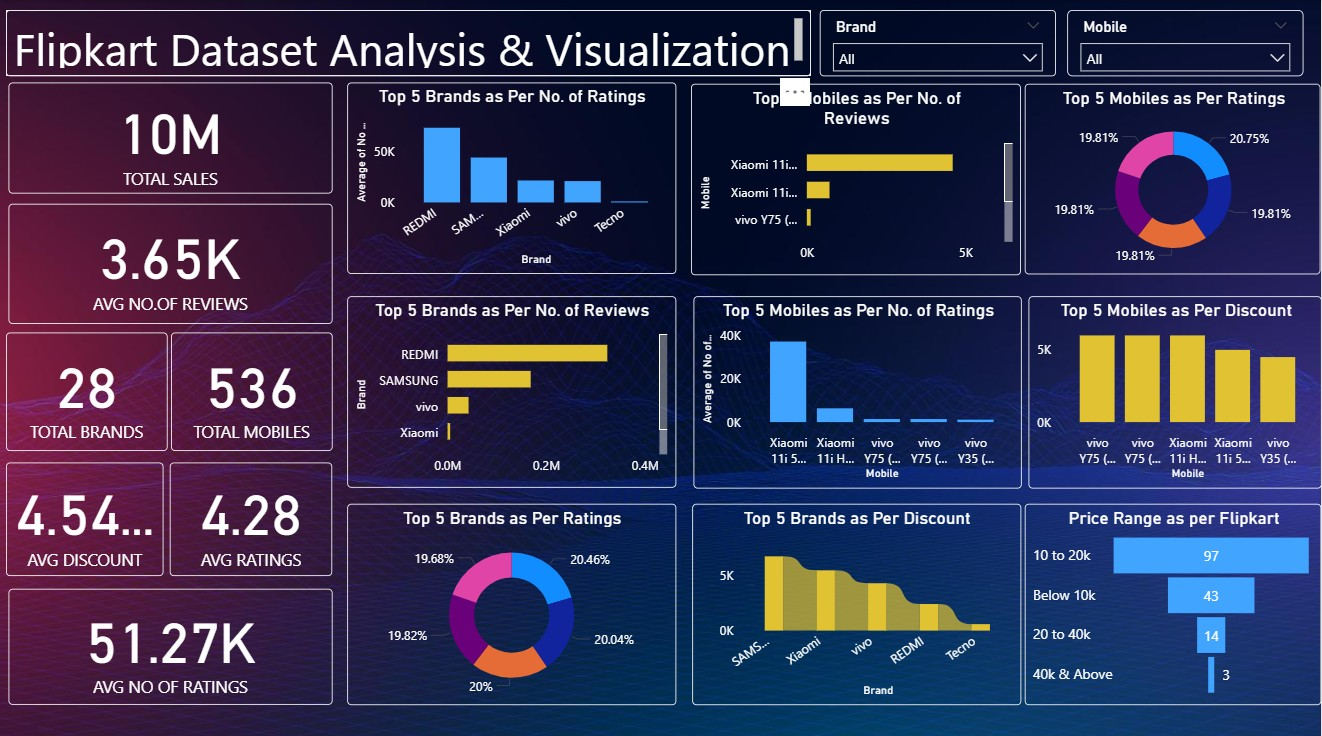

The dashboard page shown, as its layout file describes it:
{"tool":"powerbi","page":{"name":"Page 1","canvas":[1280,720],"ordinal":0},"visuals":[{"type":"textbox","box":[9.7,9.7,776.9,63.9],"z":0},{"type":"card","fields":{"Values":["Flipkart.Total Sales"]},"box":[12.1,79.6,312.5,107.4],"z":1000},{"type":"card","fields":{"Values":["Flipkart.Average No.of Reviews"]},"box":[12.1,196.6,312.5,115.8],"z":2000},{"type":"card","fields":{"Values":["Flipkart.Total Brands"]},"box":[9.7,320.9,155.6,114.6],"z":3000},{"type":"card","fields":{"Values":["Flipkart.Total Mobiles"]},"box":[168.9,320.9,155.6,114.6],"z":4000},{"type":"card","fields":{"Values":["Flipkart.Average No.of Ratings"]},"box":[12.1,568.2,312.5,112.2],"z":5000},{"type":"card","fields":{"Values":["Flipkart.Average of Ratings"]},"box":[167.7,446.4,156.8,109.8],"z":6000},{"type":"card","fields":{"Values":["Avg(Flipkart.Total Discount)"]},"box":[9.7,446.4,152,109.8],"z":7000},{"type":"columnChart","title":"Top 5 Brands as Per No. of Ratings","fields":{"Category":["Flipkart.Brand"],"Y":["Avg(Flipkart.No of Ratings)"]},"box":[339,79.6,317.3,184.6],"z":8000},{"type":"clusteredBarChart","title":"Top 5 Brands as Per No. of Reviews","fields":{"Category":["Flipkart.Brand"],"Y":["Sum(Flipkart.No of Reviews)"]},"box":[339,285.9,317.3,184.6],"z":9000},{"type":"donutChart","title":"Top 5 Brands as Per Ratings","fields":{"Category":["Flipkart.Brand"],"Y":["Avg(Flipkart.Ratings)"]},"box":[339,486.2,317.3,194.2],"z":10000},{"type":"ribbonChart","title":"Top 5 Brands as Per Discount","fields":{"Category":["Flipkart.Brand"],"Y":["Avg(Flipkart.Total Discount)"]},"box":[672,486.2,317.3,194.2],"z":11000},{"type":"columnChart","title":"Top 5 Mobiles as Per No. of Ratings","fields":{"Y":["Avg(Flipkart.No of Ratings)"],"Category":["Flipkart.Mobile"]},"box":[673.8,285.4,317,185.2],"z":12000},{"type":"clusteredBarChart","title":"Top 5 Mobiles as Per No. of Reviews","fields":{"Y":["Sum(Flipkart.No of Reviews)"],"Category":["Flipkart.Mobile"]},"box":[670.8,80.8,318.5,184.6],"z":13000},{"type":"donutChart","title":"Top 5 Mobiles as Per Ratings","fields":{"Y":["Avg(Flipkart.Ratings)"],"Category":["Flipkart.Mobile"]},"box":[993.5,81,286.8,183.9],"z":14000},{"type":"columnChart","title":"Top 5 Mobiles as Per Discount","fields":{"Y":["Avg(Flipkart.Total Discount)"],"Category":["Flipkart.Mobile"]},"box":[996.2,285.4,284,185.2],"z":15000},{"type":"slicer","title":"Top 5 Brands as Per Discount","fields":{"Values":["Flipkart.Brand"]},"box":[795,9.7,228,63.9],"z":16000},{"type":"slicer","title":"Top 5 Brands as Per Discount","fields":{"Values":["Flipkart.Mobile"]},"box":[1033.9,9.7,228,63.9],"z":17000},{"type":"funnel","title":"Price Range as per Flipkart","fields":{"Y":["CountNonNull(Flipkart.Price Range)"],"Category":["Flipkart.Price Range"]},"box":[992.9,486.2,287.1,194.2],"z":18000}]}

Visuals, with their boxes in screenshot pixels (x1, y1, x2, y2), scaled from the page's 1280x720 canvas onto the 1322x736 screenshot:
textbox: (x1=10, y1=10, x2=812, y2=75)
card - Flipkart.Total Sales: (x1=12, y1=81, x2=335, y2=191)
card - Flipkart.Average No.of Reviews: (x1=12, y1=201, x2=335, y2=319)
card - Flipkart.Total Brands: (x1=10, y1=328, x2=171, y2=445)
card - Flipkart.Total Mobiles: (x1=174, y1=328, x2=335, y2=445)
card - Flipkart.Average No.of Ratings: (x1=12, y1=581, x2=335, y2=696)
card - Flipkart.Average of Ratings: (x1=173, y1=456, x2=335, y2=569)
card - Avg(Flipkart.Total Discount): (x1=10, y1=456, x2=167, y2=569)
"Top 5 Brands as Per No. of Ratings" columnChart: (x1=350, y1=81, x2=678, y2=270)
"Top 5 Brands as Per No. of Reviews" clusteredBarChart: (x1=350, y1=292, x2=678, y2=481)
"Top 5 Brands as Per Ratings" donutChart: (x1=350, y1=497, x2=678, y2=696)
"Top 5 Brands as Per Discount" ribbonChart: (x1=694, y1=497, x2=1022, y2=696)
"Top 5 Mobiles as Per No. of Ratings" columnChart: (x1=696, y1=292, x2=1023, y2=481)
"Top 5 Mobiles as Per No. of Reviews" clusteredBarChart: (x1=693, y1=83, x2=1022, y2=271)
"Top 5 Mobiles as Per Ratings" donutChart: (x1=1026, y1=83, x2=1321, y2=271)
"Top 5 Mobiles as Per Discount" columnChart: (x1=1029, y1=292, x2=1321, y2=481)
"Top 5 Brands as Per Discount" slicer: (x1=821, y1=10, x2=1057, y2=75)
"Top 5 Brands as Per Discount" slicer: (x1=1068, y1=10, x2=1303, y2=75)
"Price Range as per Flipkart" funnel: (x1=1025, y1=497, x2=1321, y2=696)
